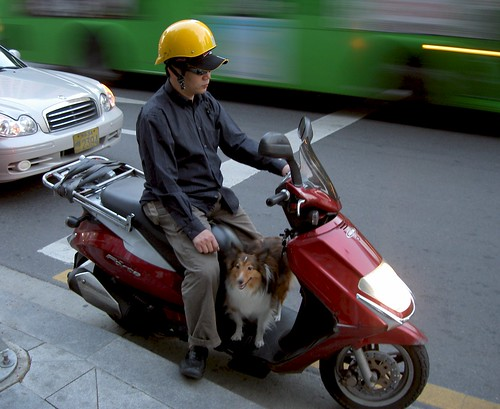helmet: (146, 17, 216, 58)
